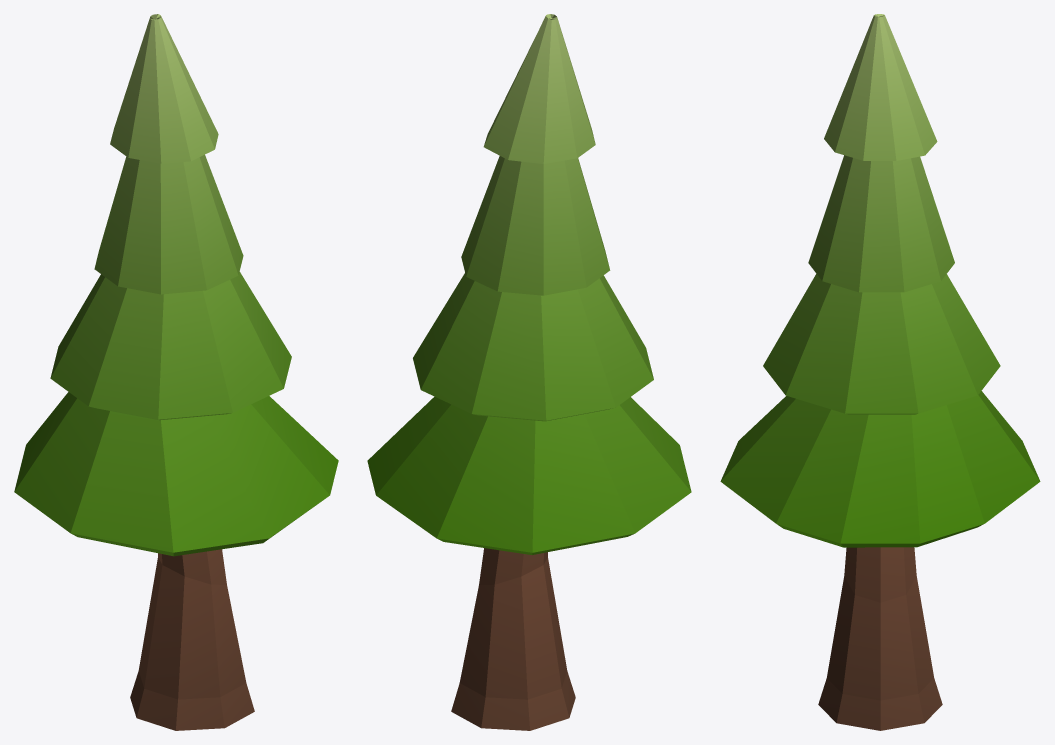
The model's file is Arvore2.fbx.
3 views of the same model, side by side, from view 1: azimuth 30°, elevation 25°; view 2: azimuth 150°, elevation 25°; view 3: azimuth 270°, elevation 25° (orthographic). The views are drawn at different scales.
Parts seen in each view (by area): view 1: Circle; view 2: Circle; view 3: Circle.
Part boxes in pixels (x1,y1,x2,y2): Circle: (14,14,338,730); Circle: (367,14,691,730); Circle: (720,14,1040,730).
Bounding box in the file's own units: 514 × 493 × 1192.
Materials: 2 (2 with a texture image).
